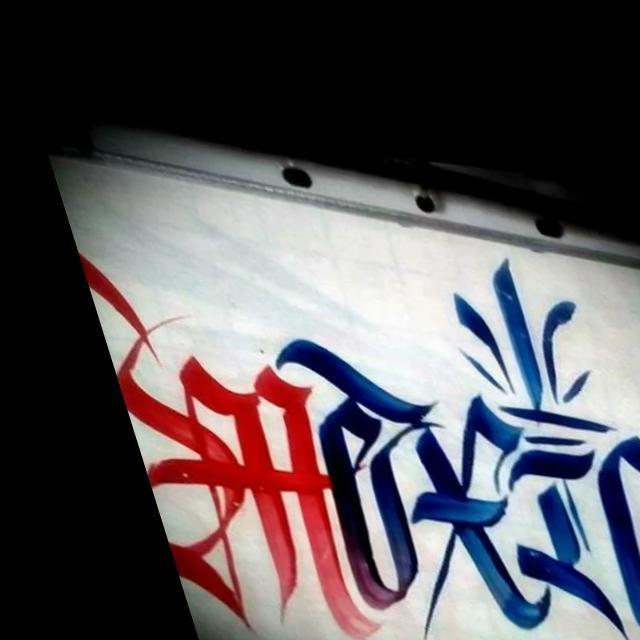-: (31, 126, 640, 640)
